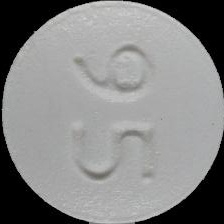63187-619: (0, 0, 224, 224)
